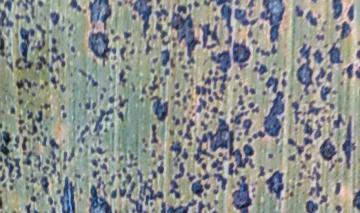tarspot: (194, 118, 256, 173), (167, 3, 201, 57), (209, 49, 232, 105), (258, 1, 287, 43), (262, 91, 286, 139), (13, 26, 34, 72), (86, 31, 111, 68), (296, 41, 313, 94), (341, 115, 357, 170), (230, 175, 252, 213), (132, 1, 153, 39), (86, 184, 113, 213), (87, 1, 113, 31), (231, 38, 252, 72), (198, 21, 221, 50), (90, 106, 113, 134), (264, 170, 285, 200), (304, 167, 323, 199), (60, 175, 76, 213), (148, 95, 170, 122), (138, 181, 165, 202), (159, 199, 196, 213), (30, 21, 46, 53), (328, 38, 345, 68), (319, 137, 338, 163), (218, 3, 233, 34), (126, 193, 147, 213), (303, 100, 326, 117), (286, 137, 305, 157), (16, 1, 36, 20), (190, 178, 206, 200), (26, 109, 38, 138), (168, 138, 182, 162), (75, 124, 90, 146), (4, 155, 15, 184), (168, 179, 183, 200), (339, 20, 353, 42), (49, 52, 68, 68), (290, 101, 302, 126), (212, 172, 228, 190), (233, 8, 249, 26), (331, 112, 346, 130), (305, 9, 320, 27), (330, 1, 344, 20), (10, 157, 22, 179), (117, 67, 128, 90), (319, 84, 333, 102), (314, 66, 326, 87), (184, 118, 196, 139), (247, 18, 259, 39), (1, 8, 15, 26), (39, 175, 51, 196), (33, 150, 43, 175), (147, 74, 159, 94), (234, 110, 250, 125), (300, 118, 313, 136), (160, 46, 170, 69), (173, 161, 185, 180), (265, 77, 280, 92), (196, 97, 208, 115), (313, 119, 323, 140), (352, 187, 360, 213), (150, 122, 159, 145), (154, 22, 166, 39), (1, 130, 13, 147), (242, 118, 253, 136), (304, 199, 318, 213), (312, 49, 325, 64), (117, 94, 129, 110), (254, 46, 270, 58), (14, 13, 31, 24), (211, 158, 224, 172), (99, 179, 108, 199), (201, 161, 210, 181), (68, 1, 83, 13), (154, 7, 170, 18), (49, 11, 60, 27), (67, 145, 77, 162), (122, 30, 133, 45), (346, 3, 355, 21), (294, 4, 304, 20), (23, 150, 33, 166), (98, 162, 110, 175), (118, 45, 127, 62), (5, 58, 14, 75), (126, 148, 133, 169), (156, 160, 165, 176), (84, 95, 92, 113), (115, 110, 126, 123), (257, 62, 268, 75), (3, 1, 16, 12), (22, 77, 32, 91), (345, 63, 353, 80), (280, 70, 288, 87), (140, 82, 149, 97), (145, 37, 152, 56), (302, 135, 314, 146), (77, 67, 88, 79), (176, 4, 188, 15), (49, 138, 60, 150), (196, 200, 206, 213), (37, 54, 47, 67), (227, 160, 235, 176), (50, 75, 58, 91), (107, 173, 116, 187), (39, 79, 50, 90), (135, 168, 143, 183), (34, 110, 44, 122), (1, 143, 11, 155), (95, 146, 108, 155), (39, 101, 52, 110), (334, 182, 342, 196), (124, 172, 132, 186), (270, 42, 278, 56), (21, 135, 28, 151), (50, 160, 57, 176), (107, 94, 117, 105), (186, 171, 196, 182), (14, 78, 24, 89), (1, 29, 6, 51), (320, 193, 329, 205), (325, 71, 334, 83), (224, 34, 233, 46), (129, 80, 137, 93), (176, 49, 184, 62), (325, 101, 336, 110), (90, 77, 99, 88), (118, 187, 127, 198), (90, 169, 101, 178), (90, 158, 99, 169), (172, 98, 181, 109), (199, 120, 208, 131), (46, 196, 55, 207), (205, 199, 212, 213), (181, 147, 188, 161), (128, 180, 135, 194), (13, 135, 20, 149), (315, 33, 327, 41), (110, 188, 118, 200), (181, 71, 189, 83), (215, 1, 234, 6), (258, 164, 265, 177), (98, 92, 105, 105), (41, 135, 48, 148), (334, 204, 344, 213), (286, 154, 296, 163), (303, 152, 312, 162), (299, 160, 308, 170), (251, 105, 260, 115), (161, 38, 171, 47), (117, 153, 125, 164), (236, 94, 244, 105), (58, 82, 66, 93), (24, 202, 32, 213), (194, 84, 201, 96), (56, 171, 62, 185), (128, 47, 137, 56), (210, 106, 219, 115), (50, 45, 59, 54), (68, 44, 76, 54), (257, 129, 265, 139), (150, 168, 158, 178), (173, 117, 181, 127), (186, 57, 196, 65), (204, 77, 212, 87), (319, 24, 327, 34), (246, 1, 256, 9), (1, 168, 6, 184), (354, 65, 360, 78), (62, 150, 68, 163), (243, 84, 249, 97), (328, 163, 335, 174), (150, 148, 157, 159), (35, 61, 42, 72), (47, 64, 54, 75), (49, 149, 56, 160), (124, 64, 133, 72), (112, 35, 121, 43), (200, 85, 206, 97), (203, 1, 215, 7), (50, 36, 58, 45), (16, 117, 25, 125), (42, 165, 50, 174), (249, 86, 256, 96), (176, 128, 183, 138), (9, 105, 16, 115), (4, 27, 11, 37), (29, 27, 36, 37), (297, 171, 303, 182), (168, 127, 174, 138), (266, 152, 274, 160), (336, 156, 344, 164), (314, 160, 322, 168), (157, 152, 165, 160), (148, 66, 156, 74), (151, 56, 159, 64), (204, 182, 212, 190), (233, 72, 241, 80), (186, 140, 194, 148), (173, 82, 181, 90), (163, 67, 171, 75), (130, 13, 138, 21), (30, 176, 38, 184), (29, 195, 37, 203), (247, 102, 256, 109), (251, 39, 260, 46), (174, 90, 181, 99), (185, 87, 192, 96), (158, 75, 165, 84), (111, 46, 118, 55), (203, 111, 210, 120), (248, 9, 255, 18), (81, 6, 88, 15), (49, 206, 58, 213), (355, 48, 360, 60), (89, 146, 95, 156), (97, 136, 103, 146), (189, 75, 194, 87), (170, 57, 175, 69), (55, 65, 60, 77), (213, 199, 220, 207), (319, 115, 326, 123), (61, 111, 68, 119), (107, 74, 114, 82), (109, 154, 116, 162), (121, 166, 128, 174), (109, 121, 116, 129), (104, 116, 112, 123), (270, 67, 277, 75), (252, 65, 259, 73), (217, 151, 224, 159), (217, 110, 225, 117), (206, 87, 213, 95), (193, 1, 200, 9), (96, 178, 101, 189), (182, 94, 187, 105), (310, 89, 319, 95), (86, 73, 92, 82), (78, 186, 84, 195), (89, 116, 95, 125), (112, 54, 118, 63), (207, 95, 213, 104), (258, 22, 264, 31), (68, 22, 74, 31), (267, 166, 274, 173), (324, 202, 331, 209), (322, 42, 329, 49), (246, 137, 253, 144), (298, 94, 305, 101), (61, 163, 68, 170), (138, 96, 145, 103), (180, 64, 187, 71), (237, 80, 244, 87), (334, 24, 341, 31), (213, 14, 220, 21), (258, 75, 265, 82), (24, 184, 31, 191), (261, 89, 267, 97), (110, 63, 116, 71), (116, 171, 122, 179), (91, 101, 97, 109), (254, 58, 260, 66), (181, 116, 187, 124), (89, 57, 97, 63), (207, 69, 213, 77), (182, 105, 190, 111), (151, 34, 159, 40), (37, 1, 45, 7), (60, 25, 66, 33), (32, 207, 40, 213), (328, 131, 334, 138), (213, 188, 219, 195), (296, 181, 303, 187), (287, 93, 293, 100), (75, 172, 81, 179), (148, 201, 155, 207), (150, 207, 157, 213), (141, 147, 147, 154), (141, 136, 147, 143), (302, 33, 308, 40), (233, 168, 239, 175), (228, 117, 234, 124), (239, 104, 245, 111), (190, 104, 196, 111), (232, 86, 238, 93), (316, 12, 322, 19), (322, 19, 329, 25), (18, 99, 24, 106), (16, 90, 22, 97), (43, 126, 50, 132), (31, 80, 37, 87), (1, 195, 4, 209), (55, 188, 62, 194), (289, 190, 294, 198), (78, 145, 83, 153), (76, 123, 81, 131), (134, 154, 139, 162), (77, 101, 82, 109), (67, 31, 72, 39), (203, 191, 208, 199), (230, 109, 235, 117), (1, 182, 9, 187), (1, 50, 6, 58), (38, 122, 43, 130), (36, 135, 41, 143), (339, 80, 345, 86), (211, 209, 220, 213), (102, 156, 108, 162), (133, 161, 139, 167), (272, 61, 278, 67), (237, 131, 243, 137), (233, 1, 242, 5), (211, 6, 217, 12), (8, 185, 14, 191), (21, 150, 27, 156), (252, 132, 257, 139), (77, 197, 84, 202), (92, 109, 97, 116), (102, 86, 107, 93), (207, 120, 214, 125), (214, 70, 219, 77), (116, 1, 121, 8), (30, 92, 37, 97), (60, 104, 65, 111), (48, 28, 53, 35), (171, 114, 175, 122), (251, 187, 256, 193), (332, 89, 337, 95), (113, 208, 119, 213), (109, 29, 115, 34), (103, 127, 108, 133), (187, 94, 192, 100), (161, 82, 167, 87), (235, 136, 241, 141), (191, 112, 196, 118), (155, 1, 161, 6), (162, 16, 167, 22), (157, 17, 162, 23), (24, 176, 29, 182), (356, 39, 360, 46), (11, 209, 18, 213), (69, 71, 73, 78), (309, 1, 318, 4), (130, 41, 135, 46), (1, 109, 6, 114), (53, 200, 58, 205), (97, 156, 101, 162), (144, 142, 148, 148), (123, 1, 129, 5), (39, 131, 45, 135), (32, 137, 36, 143), (210, 115, 216, 118), (1, 155, 3, 164), (1, 1, 5, 5), (1, 122, 3, 129), (1, 164, 3, 171), (1, 189, 3, 193)
